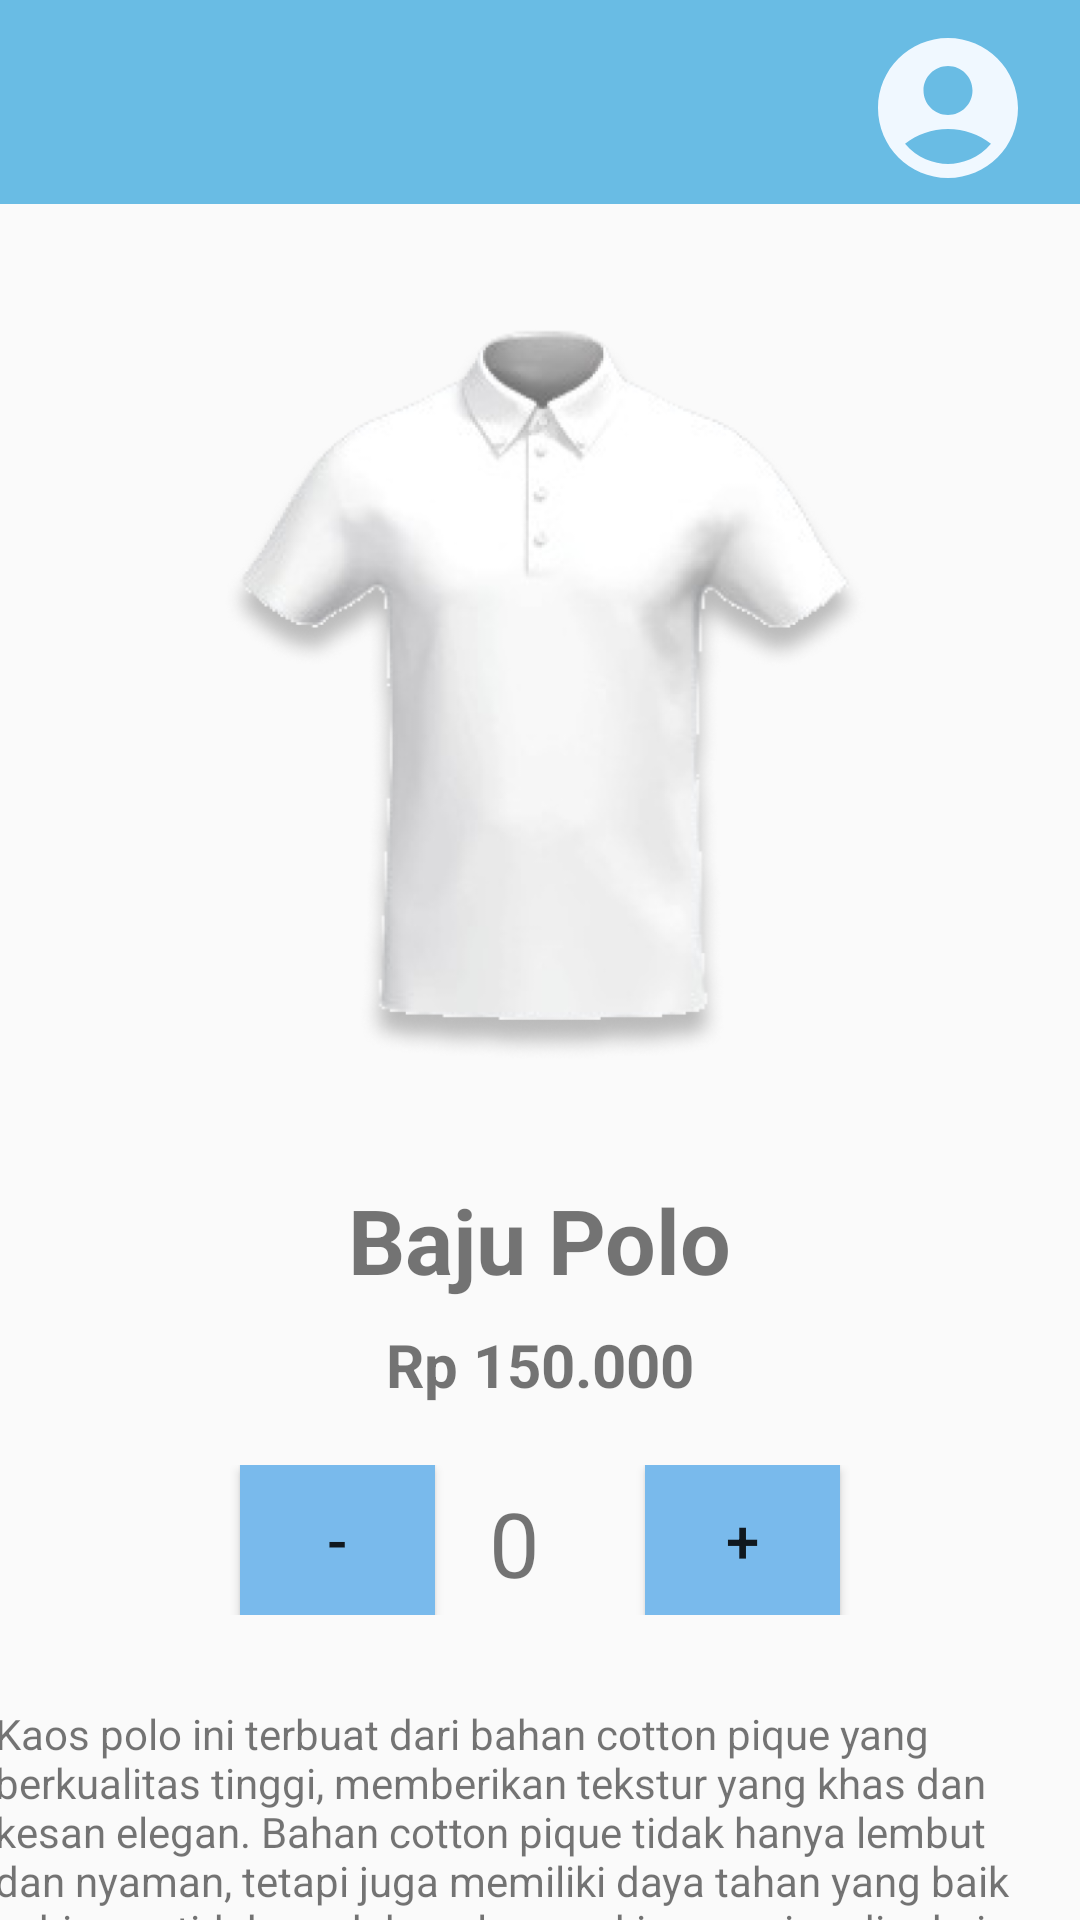

Screen size 1080px×1920px. Icon name, then its box in pixels as (x1, y1, x2, y2):
account circle: (878, 38, 1018, 178)
